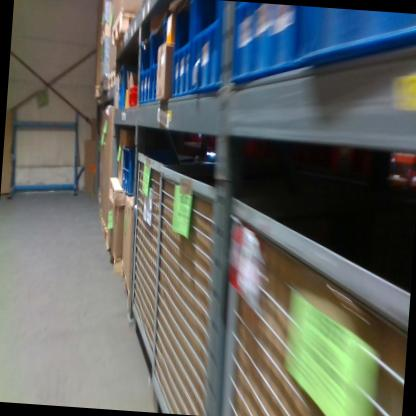pallet: (110, 8, 138, 49), (116, 259, 133, 315), (106, 66, 117, 93)
small_load_carrier: (287, 6, 416, 80), (225, 2, 318, 94), (186, 1, 232, 101), (166, 0, 205, 103), (148, 10, 173, 108), (135, 30, 156, 107), (120, 145, 138, 198), (111, 61, 130, 107)
stillage: (215, 192, 415, 416), (141, 160, 231, 416), (119, 147, 170, 381)
